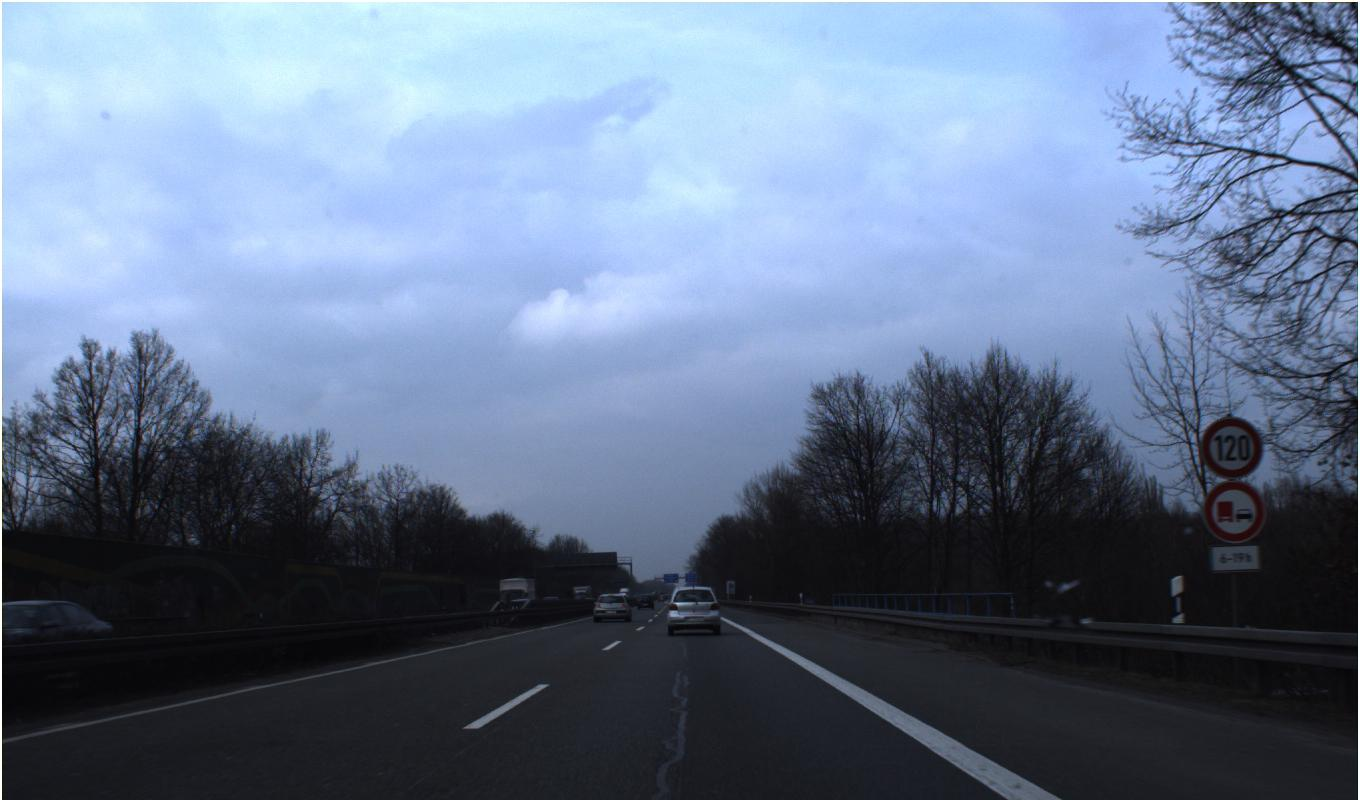prohibitory: (1202, 479, 1267, 544), (1199, 416, 1263, 480)
